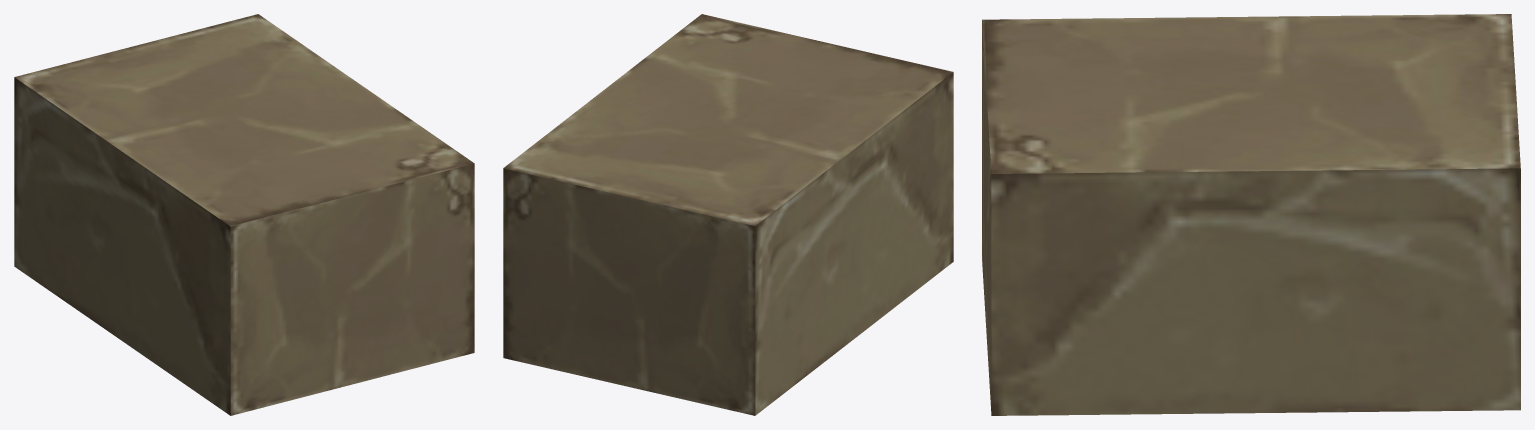
Rendered from bfcs_shitou_01.FBX.
3 renders of one model, left to right at view 1: azimuth 30°, elevation 25°; view 2: azimuth 150°, elevation 25°; view 3: azimuth 270°, elevation 25°, orthographic. The views are drawn at different scales.
Visible parts, largest first — view 1: bfcs_shitou_01; view 2: bfcs_shitou_01; view 3: bfcs_shitou_01.
Part boxes in pixels (x1,y1,x2,y2): bfcs_shitou_01: (14, 14, 474, 415); bfcs_shitou_01: (503, 14, 953, 415); bfcs_shitou_01: (982, 14, 1520, 415).
Bounding box in the file's own units: 26.92 × 18.97 × 38.28.
